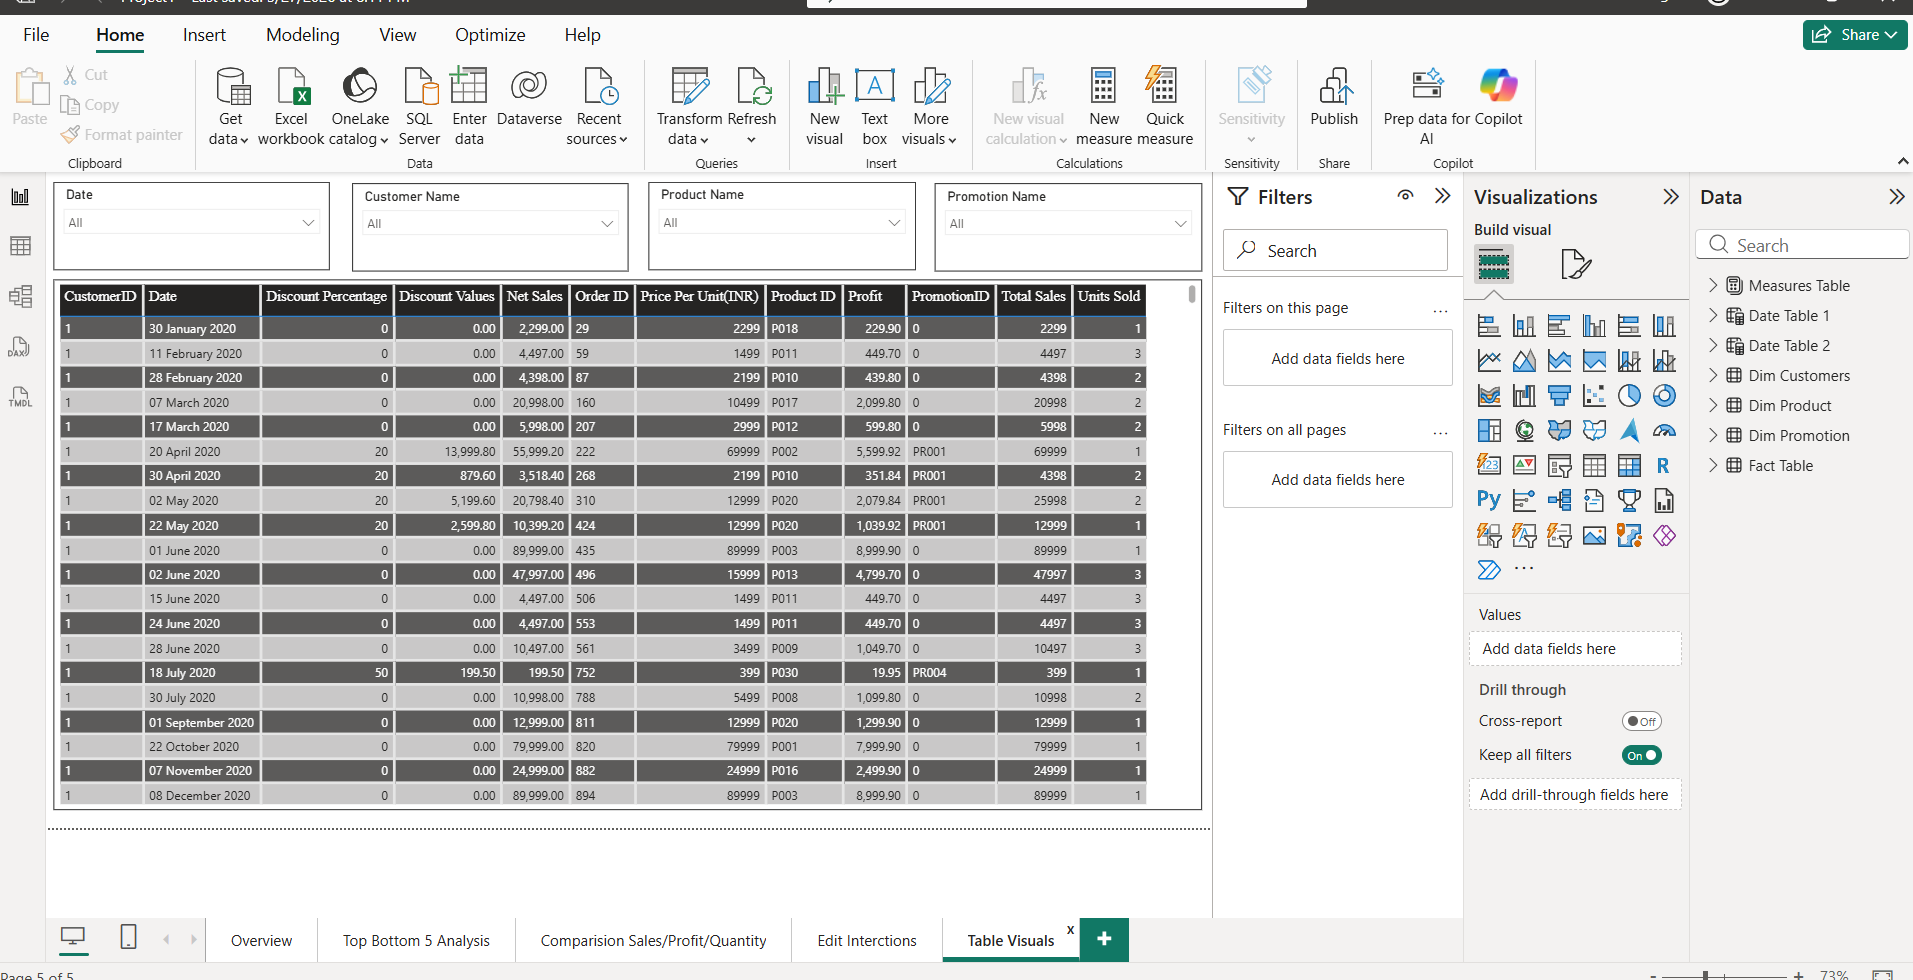

Layout of this report page (visuals, bound fields, positions):
{"tool":"powerbi","page":{"name":"Table Visuals","canvas":[1280,720],"ordinal":4},"visuals":[{"type":"tableEx","fields":{"Values":["Fact Table.CustomerID","Fact Table.Date (dd/mm/yyyy)","Fact Table.Discount Percentage","Fact Table.Discount Values","Fact Table.Net Sales   ","Fact Table.Order ID","Fact Table.Price Per Unit(INR)","Fact Table.Product ID","Fact Table.Profit","Fact Table.PromotionID","Fact Table.Total Sales   ","Fact Table.Units Sold"]},"box":[8.6,118.6,1260.7,582.1],"z":0},{"type":"slicer","fields":{"Values":["Date Table 1.Date"]},"box":[8.6,11,303.3,96.6],"z":1000},{"type":"slicer","fields":{"Values":["Dim Customers.Customer Name"]},"box":[336.3,12.2,303.3,96.6],"z":2000},{"type":"slicer","fields":{"Values":["Dim Product.Product Name"]},"box":[661.6,11,293.5,96.6],"z":3000},{"type":"slicer","fields":{"Values":["Dim Promotion.Promotion Name"]},"box":[975.8,12.2,293.5,96.6],"z":4000}]}

Visuals, with their boxes on the page's 1280x720 design canvas (x1, y1, x2, y2). These are canvas units, not pixel positions in the 1913x980 screenshot, which may show the page scaled, cropped or inside an application window:
tableEx - Fact Table.CustomerID x Fact Table.Date (dd/mm/yyyy): l=9, t=119, r=1269, b=701
slicer - Date Table 1.Date: l=9, t=11, r=312, b=108
slicer - Dim Customers.Customer Name: l=336, t=12, r=640, b=109
slicer - Dim Product.Product Name: l=662, t=11, r=955, b=108
slicer - Dim Promotion.Promotion Name: l=976, t=12, r=1269, b=109
